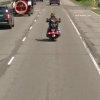Motorcycle: (41, 8, 63, 43)
